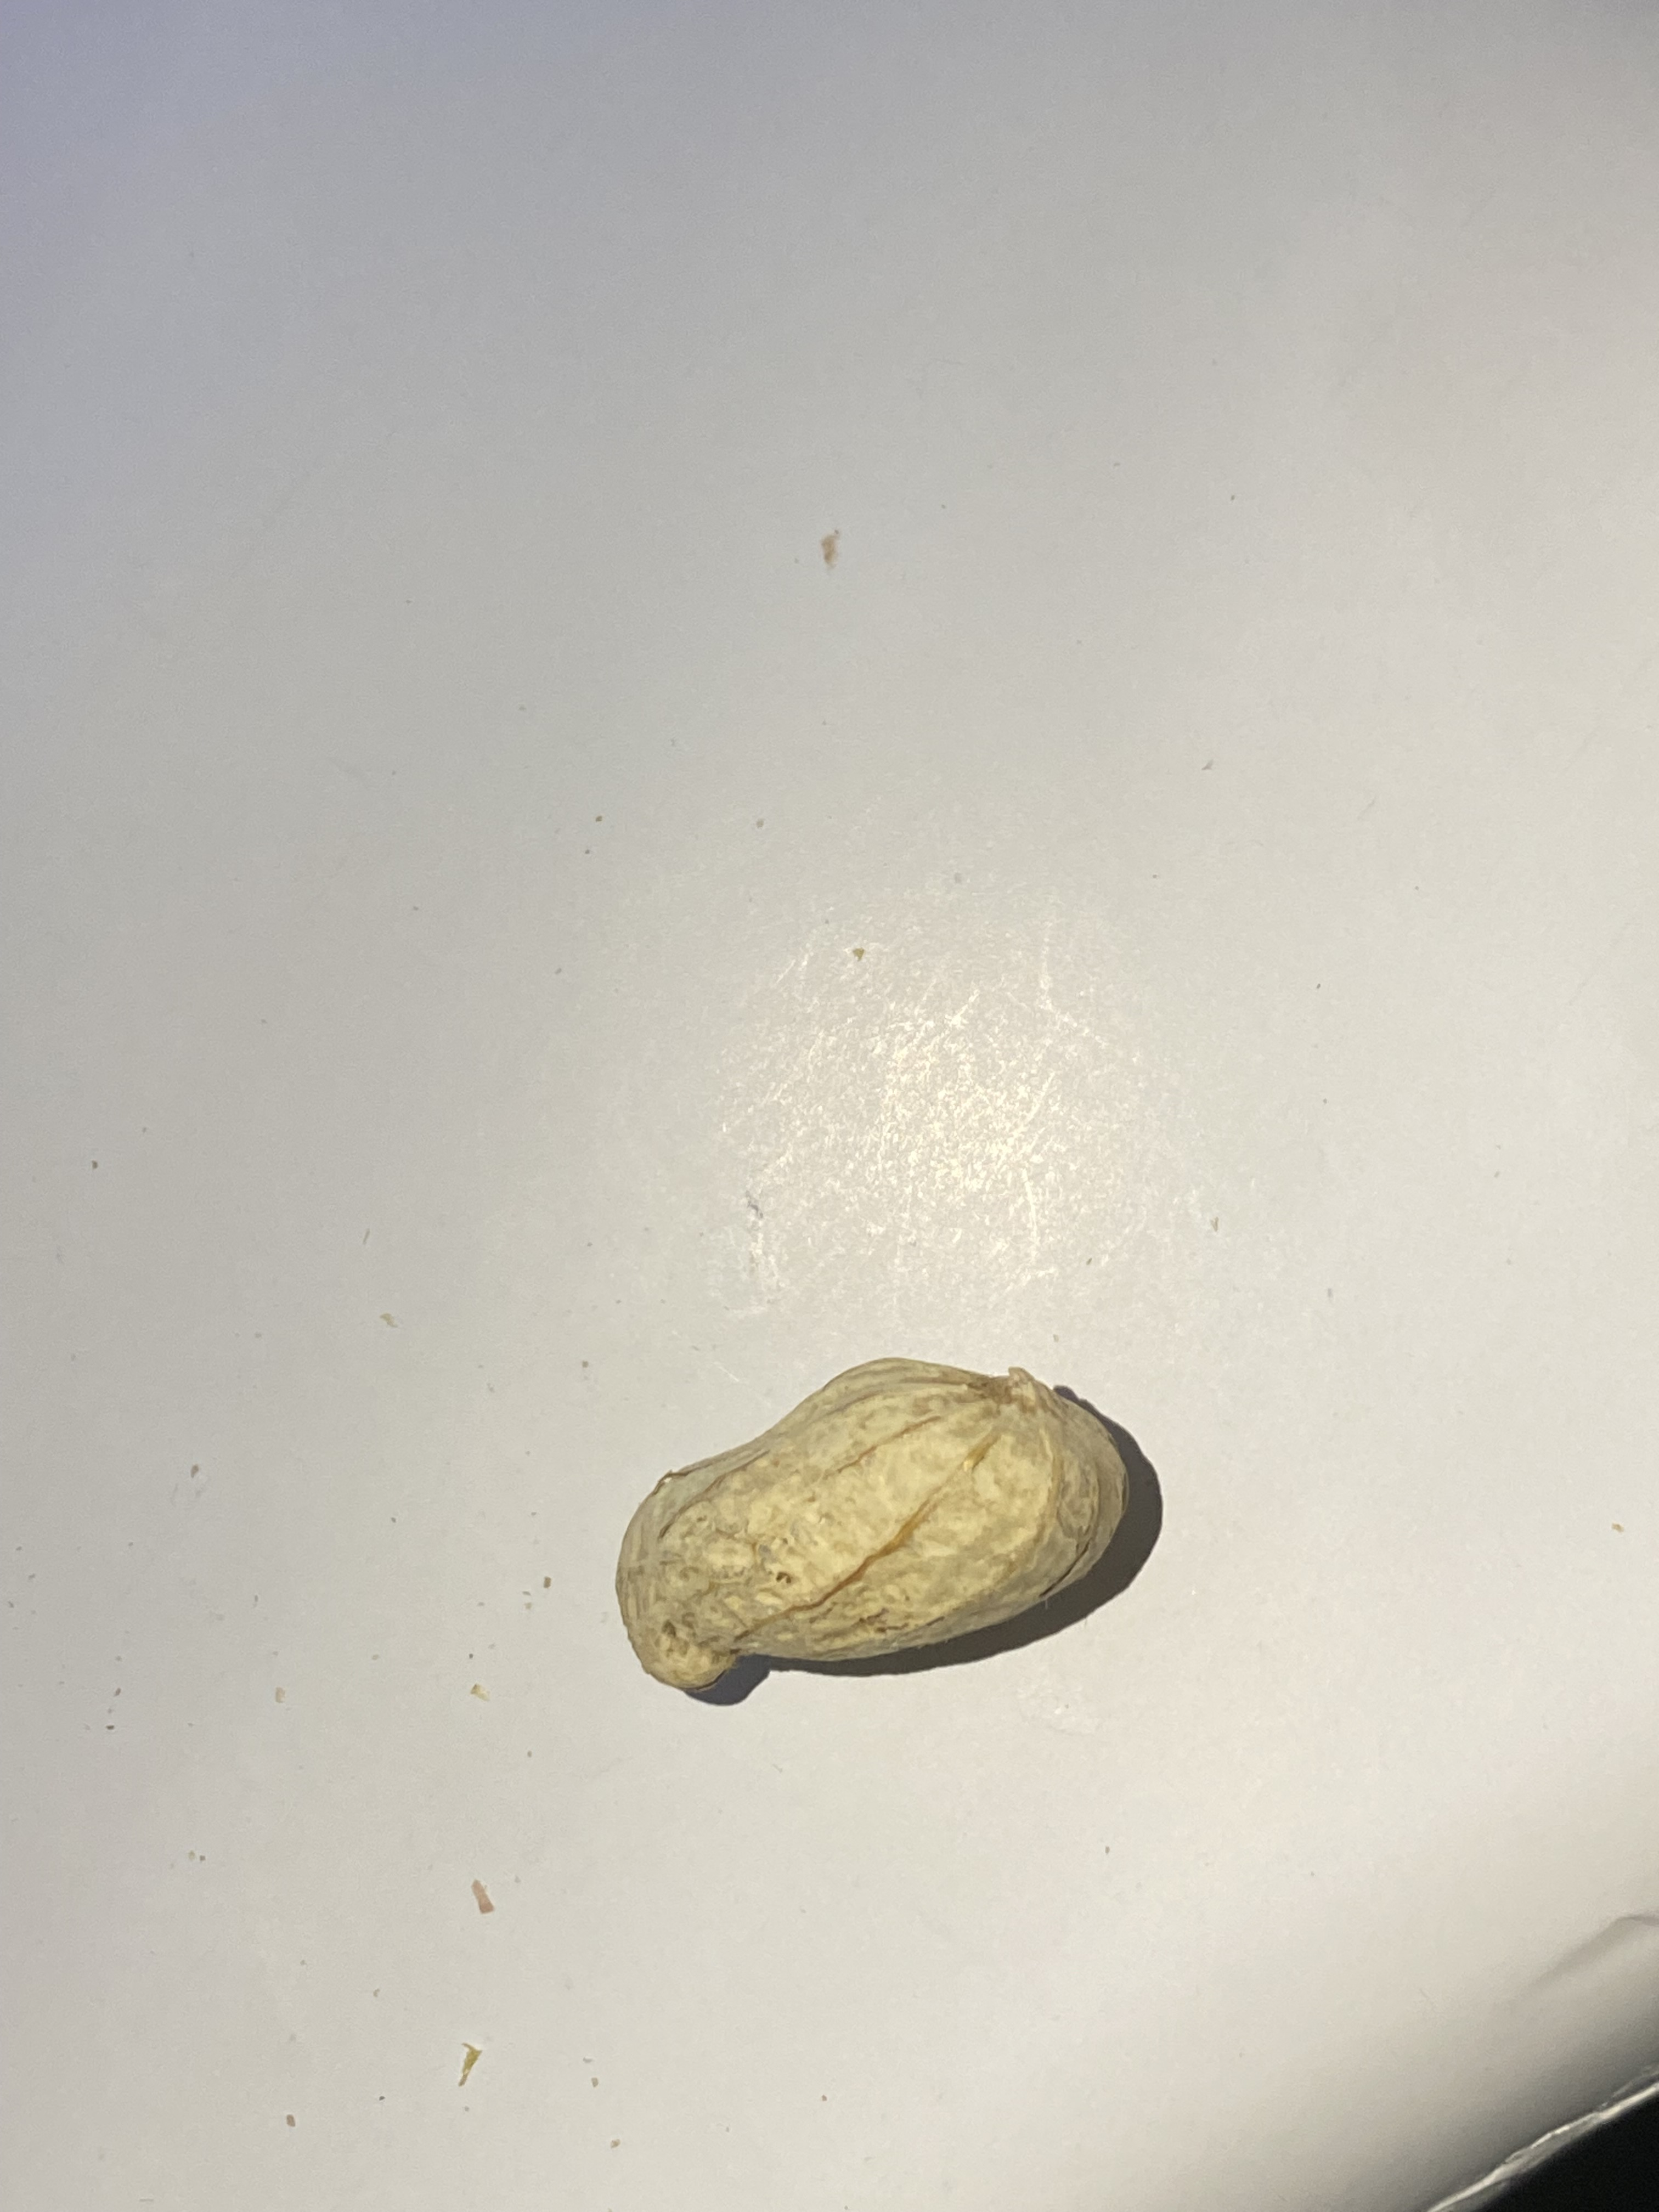kacang1: (615, 1315, 1164, 1702)
